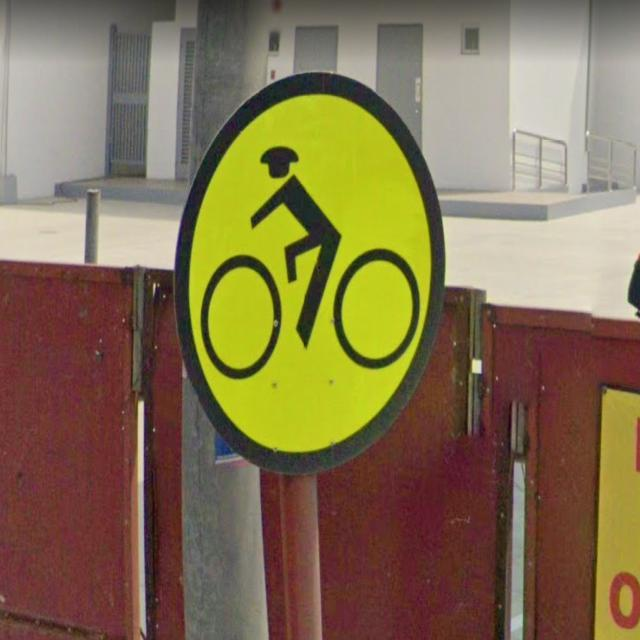bike lane: (173, 72, 444, 472)
